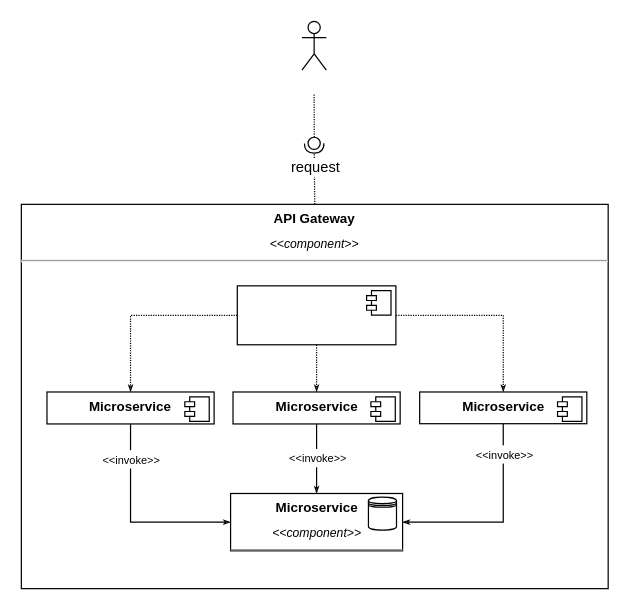
This 630x610 diagram has some shape labels left out. Each missing label, with the box of its shape:
Client: (301, 20, 326, 70)
Load Balancer <<component>>: (236, 285, 396, 345)
